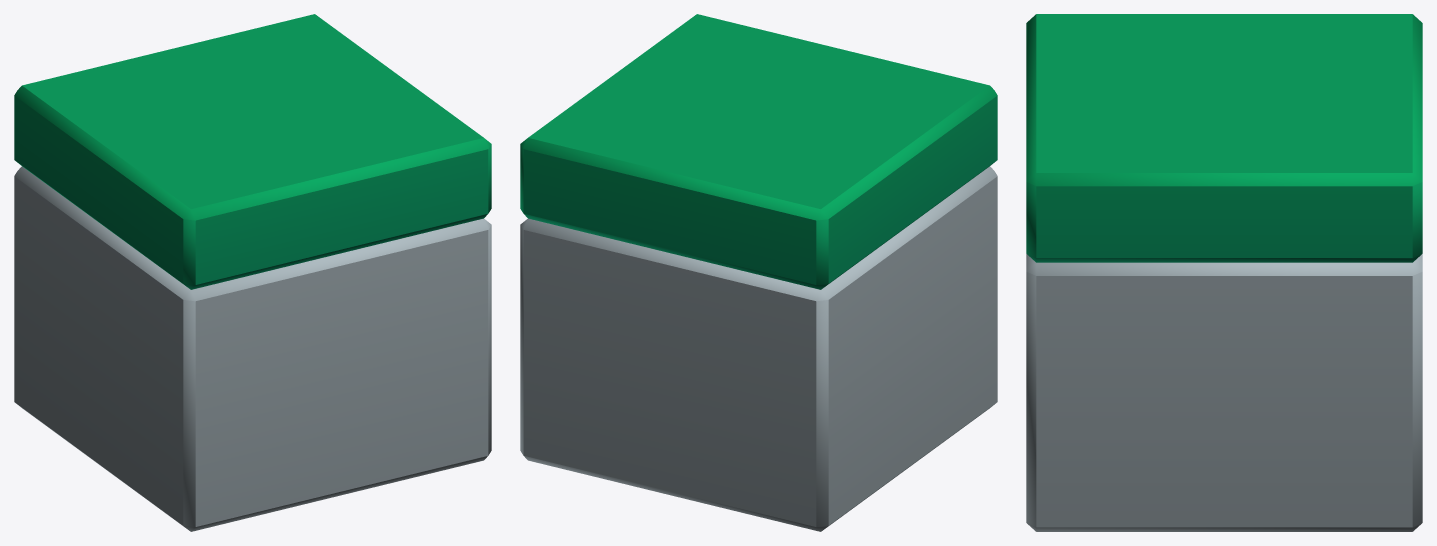
File: platform_2x2x2_green.glb
3 views of the same model, side by side, from view 1: azimuth 30°, elevation 25°; view 2: azimuth 150°, elevation 25°; view 3: azimuth 270°, elevation 25° (orthographic). The views are drawn at different scales.
Parts seen in each view (by area): view 1: platform_2x2x2_green; view 2: platform_2x2x2_green; view 3: platform_2x2x2_green.
Part boxes in pixels (<box>): platform_2x2x2_green: <box>14,14,491,531</box>; platform_2x2x2_green: <box>520,14,997,531</box>; platform_2x2x2_green: <box>1026,14,1422,531</box>.
Bounding box in the file's own units: 2 × 2 × 2.
1 material, 1 textured.
